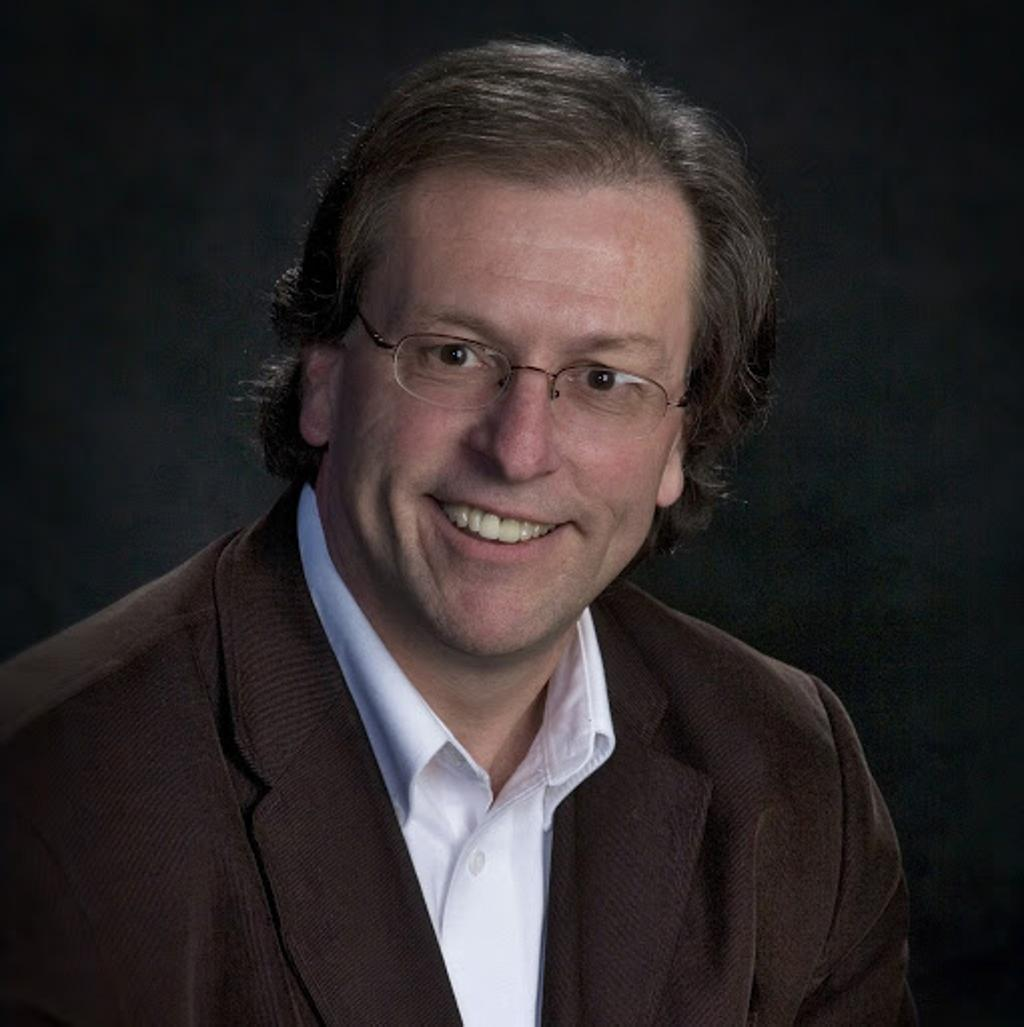face: (344, 173, 699, 654)
